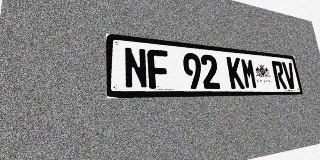2: (200, 54, 220, 89)
9: (182, 52, 204, 89)
F: (147, 49, 170, 89)
K: (226, 56, 245, 89)
M: (240, 58, 258, 89)
N: (123, 47, 148, 89)
R: (271, 61, 287, 89)
V: (282, 62, 297, 89)
